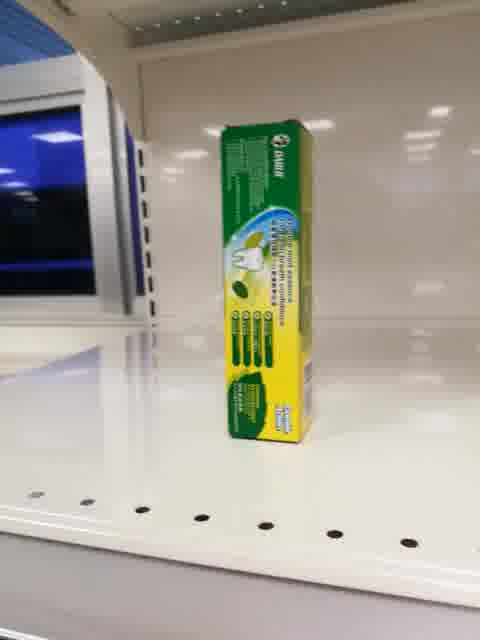toothpaste: (220, 117, 314, 445)
